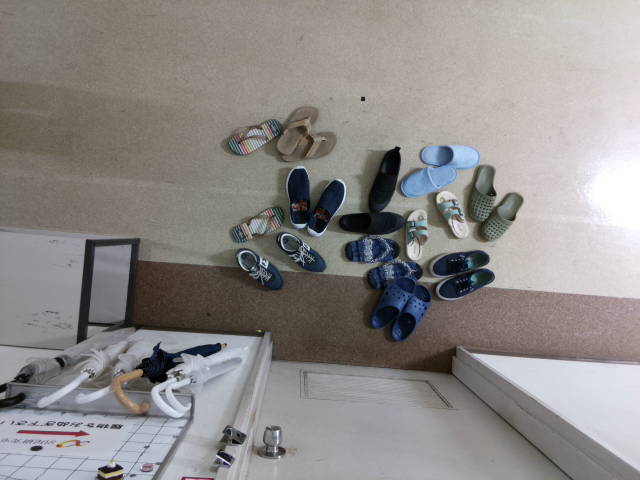Copy of Copy of Copy of Copy of Copy of Copy of Copy of sandal: (367, 258, 423, 288)
Copy of Copy of Copy of Copy of Copy of Copy of Copy of shoes: (234, 247, 283, 290)
Copy of Copy of Copy of Copy of Copy of Copy of sandal: (344, 234, 400, 263)
Copy of Copy of Copy of Copy of Copy of Copy of shoes: (276, 231, 327, 272)
Copy of Copy of Copy of Copy of Copy of sandal: (434, 190, 469, 238)
Copy of Copy of Copy of Copy of Copy of shoes: (434, 267, 495, 300)
Copy of Copy of Copy of Copy of Copy of slipper: (371, 276, 416, 330)
Copy of Copy of Copy of Copy of sandal: (404, 208, 428, 260)
Copy of Copy of Copy of Copy of shoes: (427, 249, 490, 278)
Copy of Copy of Copy of Copy of slipper: (390, 285, 431, 342)
Copy of Copy of Copy of sandal: (231, 205, 284, 242)
Copy of Copy of Copy of shoes: (338, 210, 405, 234)
Copy of Copy of Copy of slipper: (478, 191, 524, 243)
Copy of Copy of sandal: (281, 130, 337, 162)
Copy of Copy of shoes: (367, 145, 402, 213)
Copy of Copy of slipper: (468, 164, 497, 222)
Copy of sandal: (276, 104, 320, 155)
Copy of shoes: (286, 165, 311, 228)
Copy of slipper: (399, 164, 458, 199)
sandal: (228, 117, 282, 156)
shoes: (306, 177, 346, 237)
slipper: (420, 144, 480, 170)
